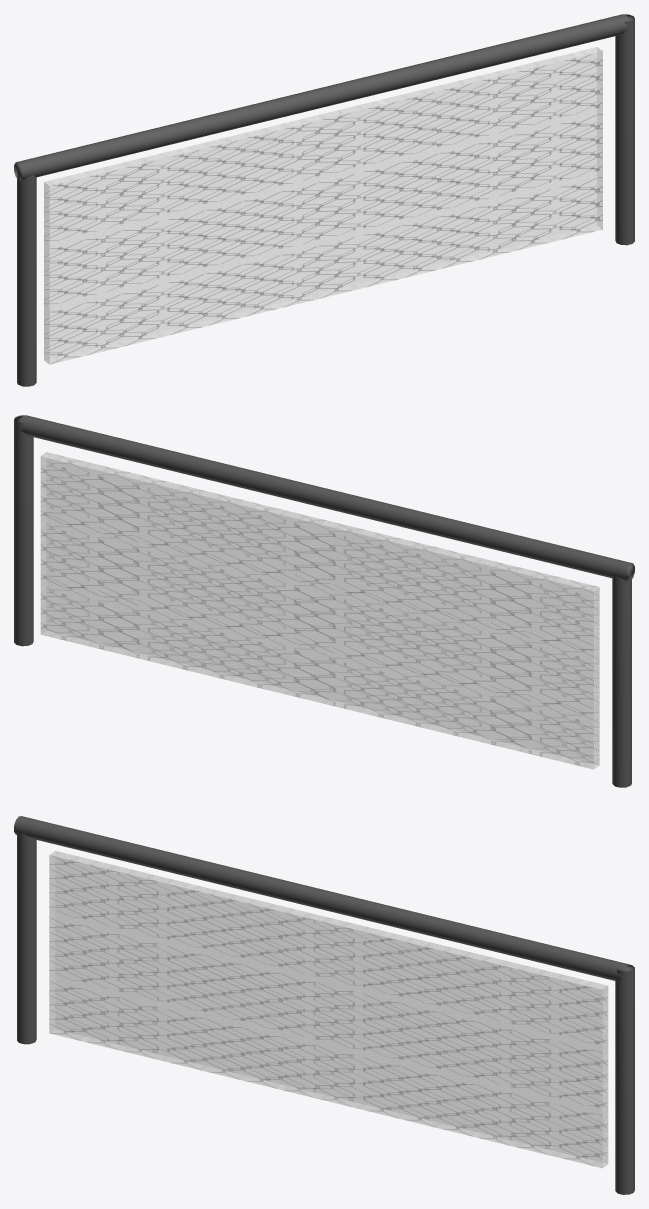
File: barrier.fbx
3 renders of one model, top to bottom at view 1: azimuth 30°, elevation 25°; view 2: azimuth 150°, elevation 25°; view 3: azimuth 330°, elevation 25°, orthographic.
Visible parts, largest first — view 1: pCube3, polySurface328, polySurface330, polySurface331; view 2: pCube3, polySurface328, polySurface330, polySurface331; view 3: pCube3, polySurface328, polySurface330, polySurface331.
Boxes of the visible parts, box(x1,y1,x2,y2) form: pCube3: box(44, 47, 602, 364); polySurface328: box(14, 14, 629, 180); polySurface330: box(615, 14, 634, 245); polySurface331: box(17, 170, 36, 386); pCube3: box(40, 452, 599, 769); polySurface328: box(19, 415, 634, 581); polySurface330: box(14, 415, 33, 646); polySurface331: box(612, 571, 631, 787); pCube3: box(49, 851, 608, 1168); polySurface328: box(14, 816, 628, 980); polySurface330: box(615, 964, 634, 1194); polySurface331: box(17, 831, 36, 1044).
Bounding box in the file's own units: 844 × 297 × 24.56.
2 materials, 1 textured.
